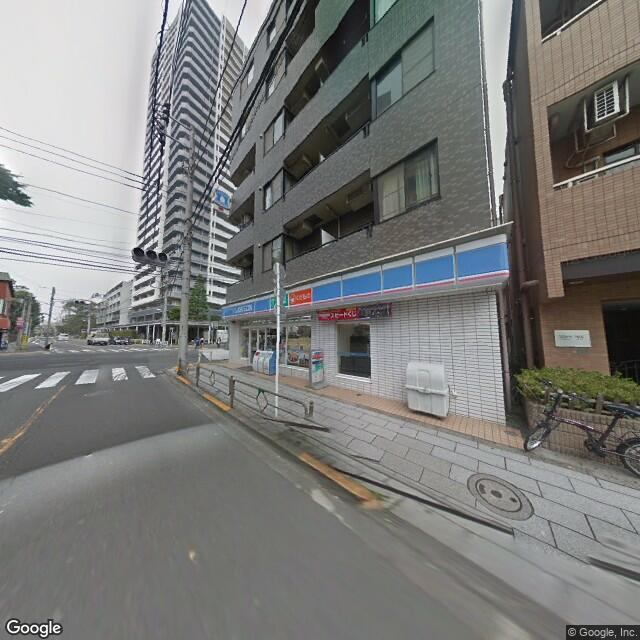lawson: (221, 225, 509, 319), (213, 186, 230, 211)
